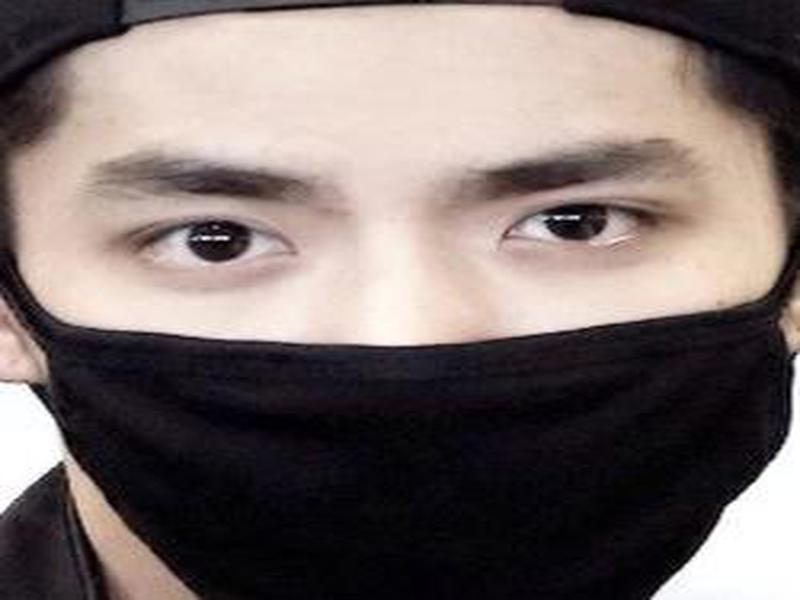with_mask: (1, 5, 778, 600)
